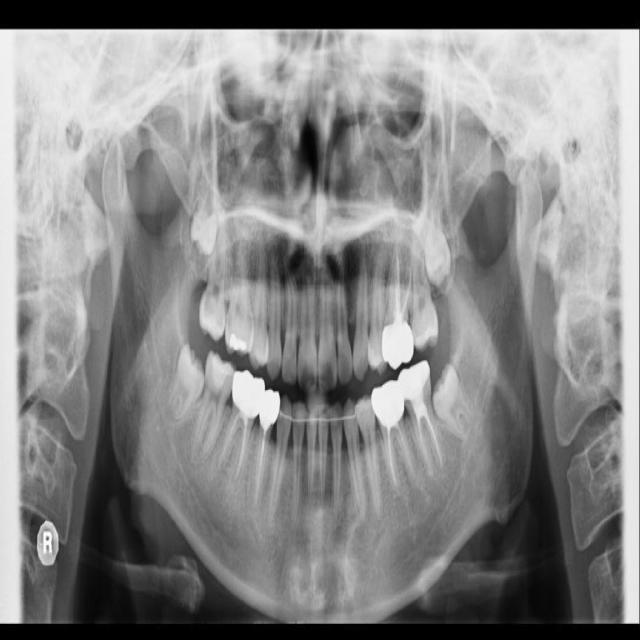3M ESPE Implant: (190, 170, 216, 256)
52: (191, 349, 243, 411), (391, 358, 443, 412), (365, 378, 413, 430), (229, 369, 267, 427), (222, 299, 258, 358), (380, 318, 416, 370), (253, 387, 283, 439), (411, 302, 438, 353), (368, 332, 388, 376)
73: (376, 416, 422, 499), (383, 237, 420, 334), (406, 400, 449, 481), (214, 406, 257, 483), (251, 426, 271, 510), (596, 558, 616, 590)
BioHorizons Implant: (409, 232, 439, 352)
BioLife Implant: (424, 204, 451, 288)
Biomet 3i Implant: (420, 361, 478, 440)
Blue Sky Bio Implant: (394, 360, 447, 481)
Caries: (197, 222, 230, 344)
Implant: (190, 350, 240, 461)
Keystone Dental Implant: (165, 343, 213, 425)
